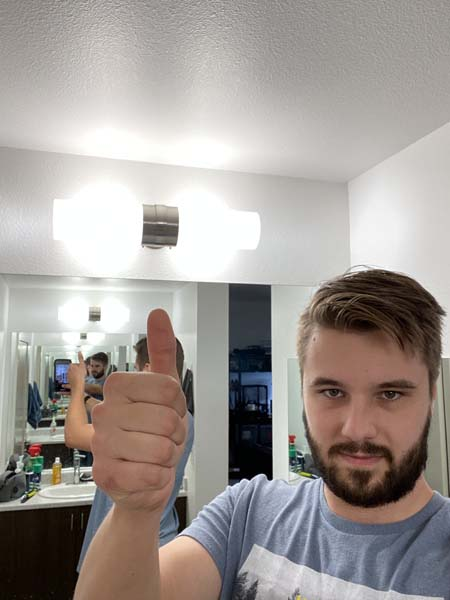Thumbs Up: (79, 299, 203, 515)
